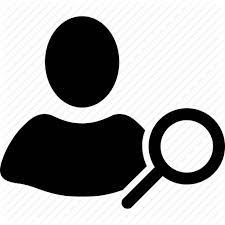searchIcon: (123, 106, 225, 208)
